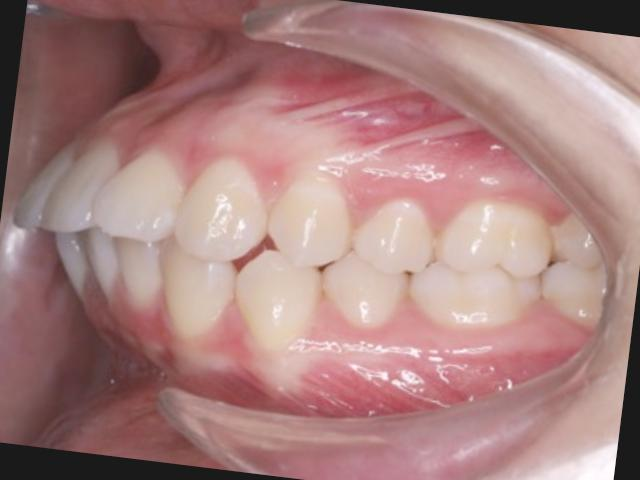canine class II 1/2: (147, 139, 340, 377)
molar class I: (404, 188, 561, 350)
